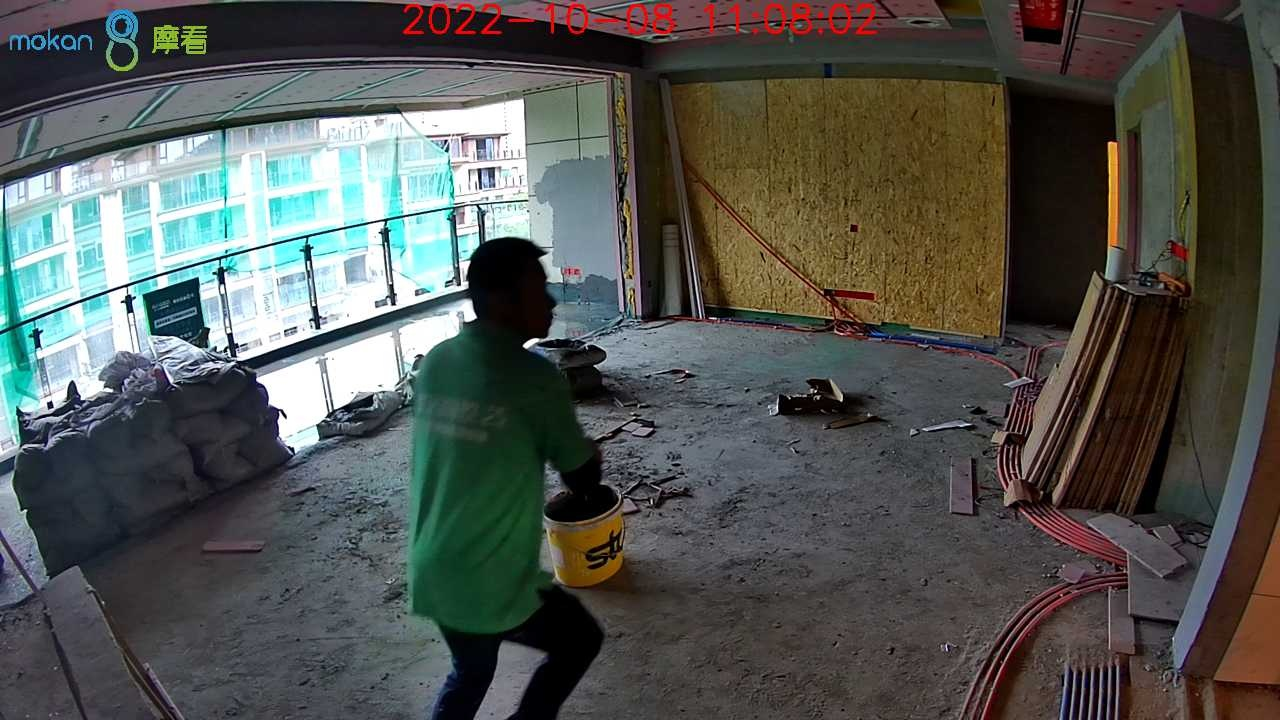people: (411, 239, 605, 720)
window: (1, 119, 536, 454)
